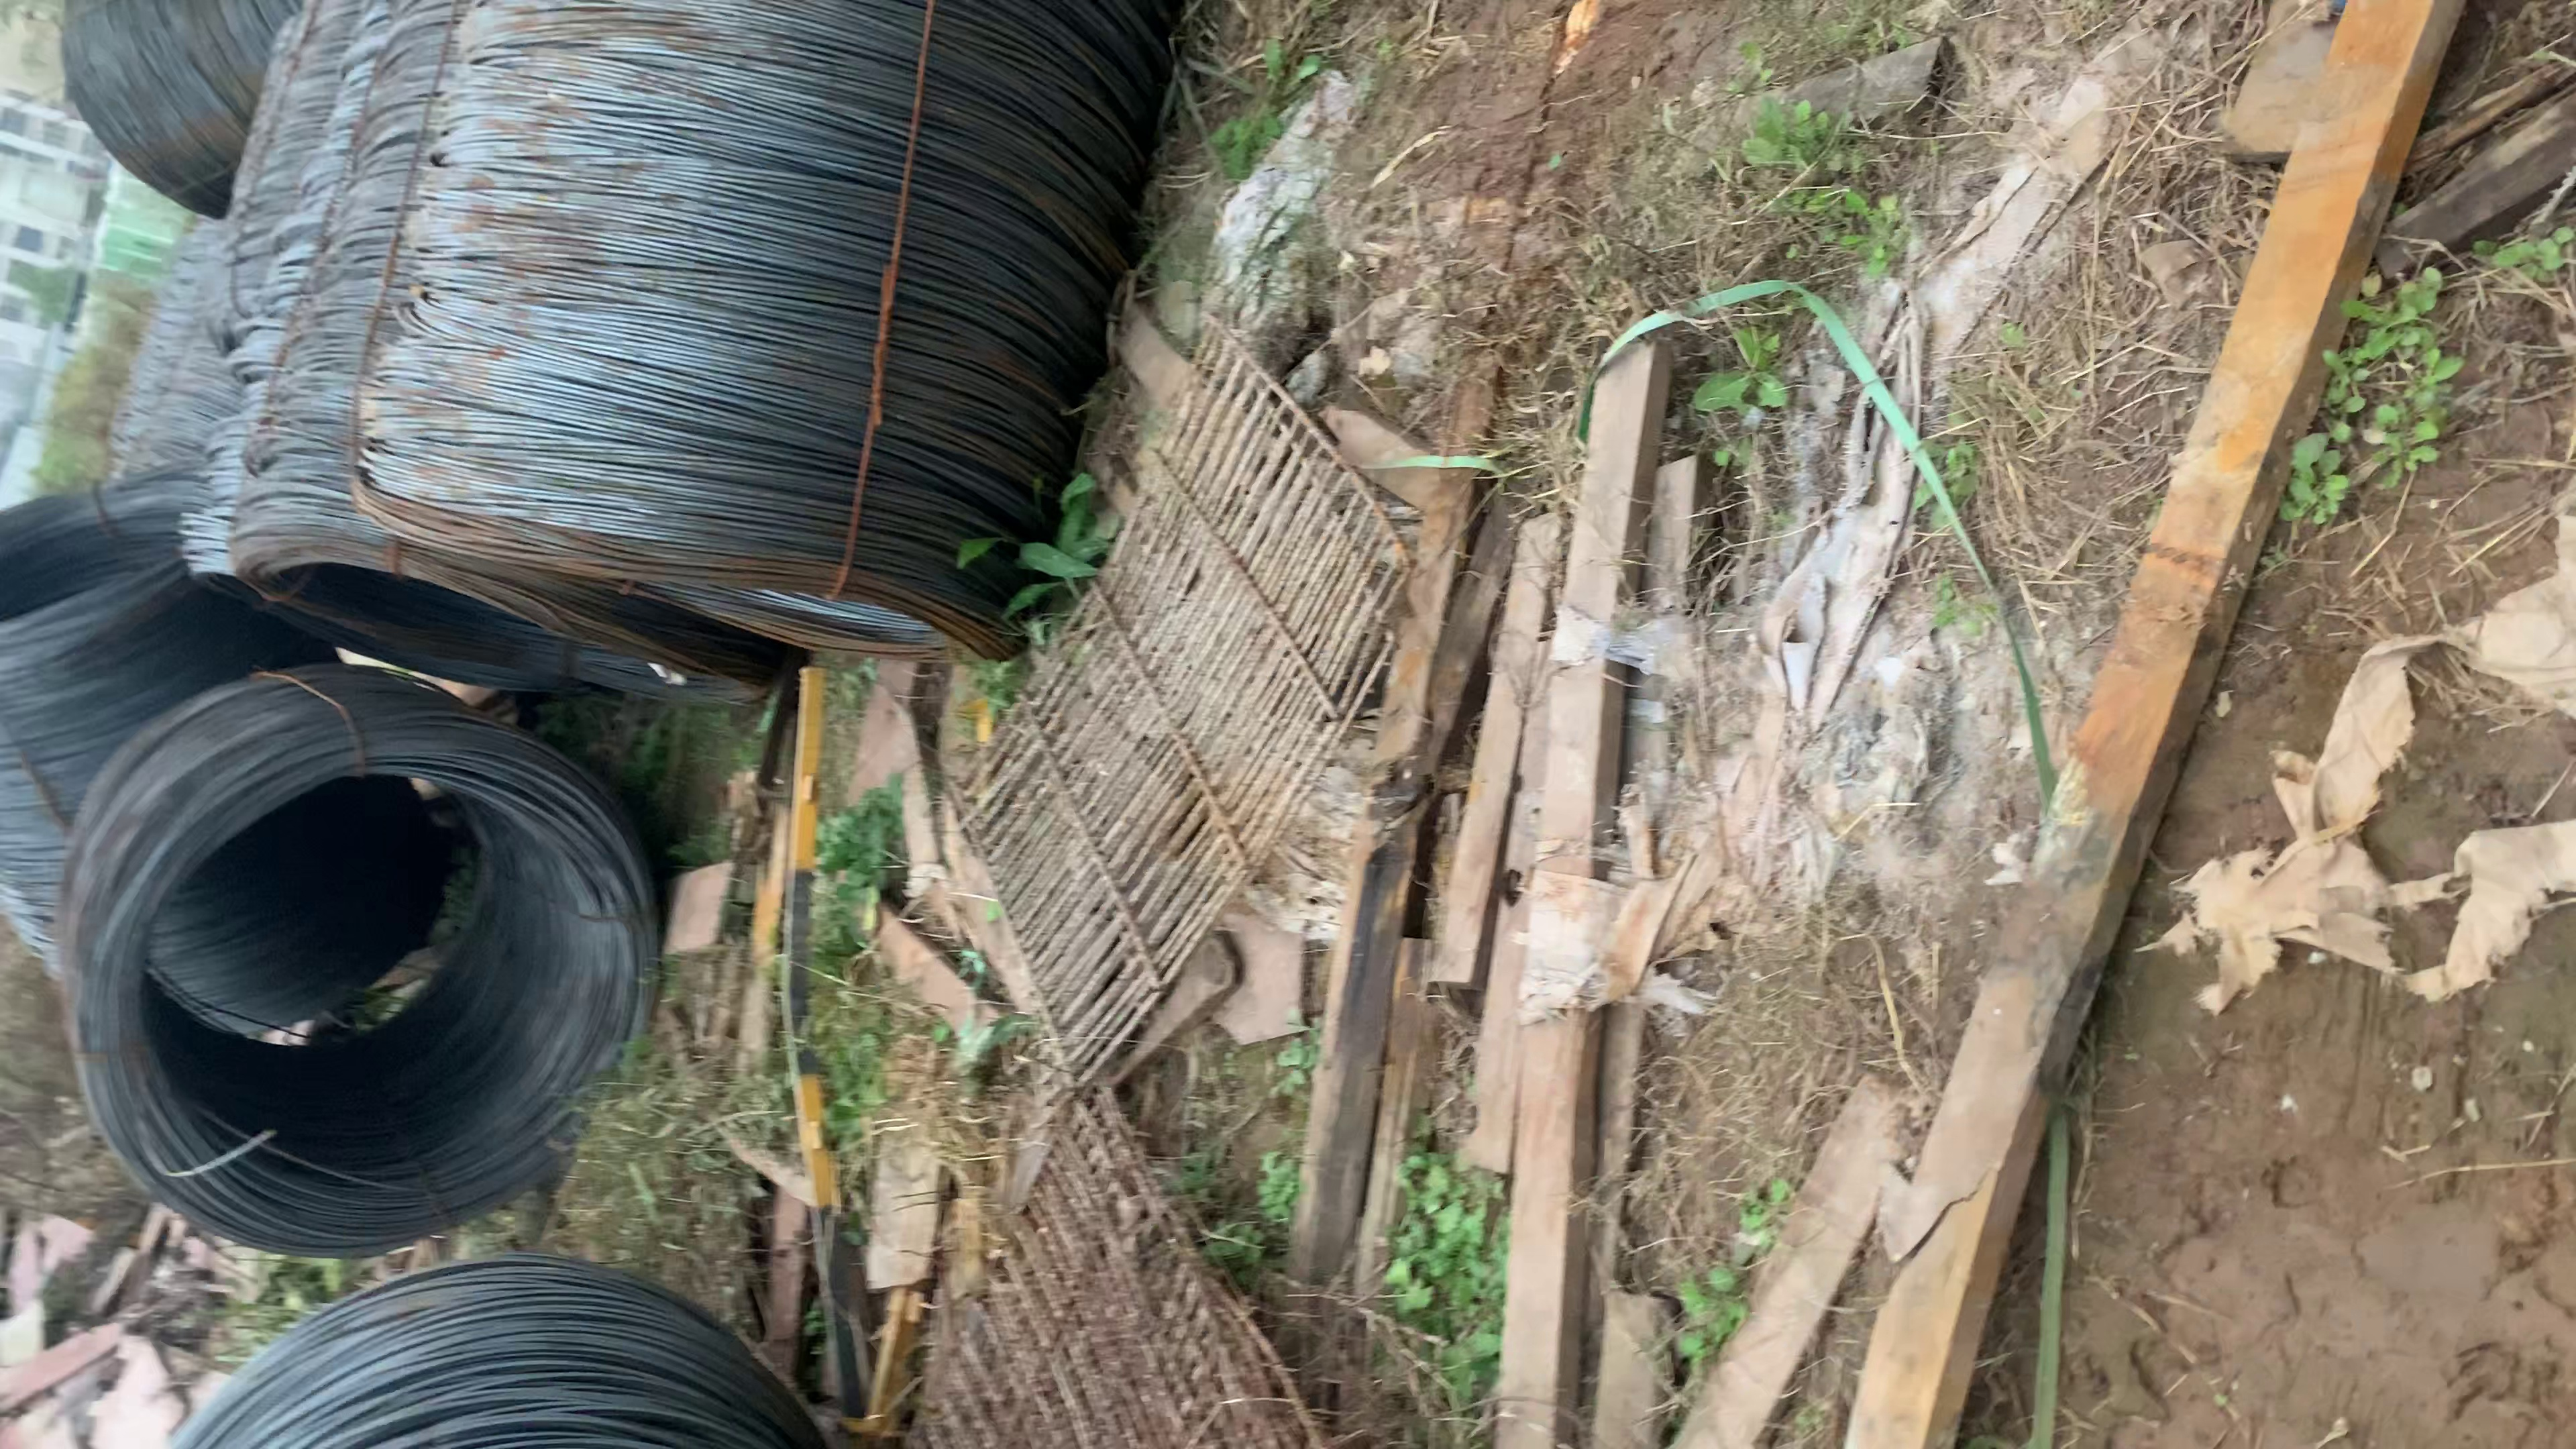coil: (103, 732, 678, 1281), (356, 502, 1008, 688), (211, 529, 810, 731), (0, 474, 241, 667)
